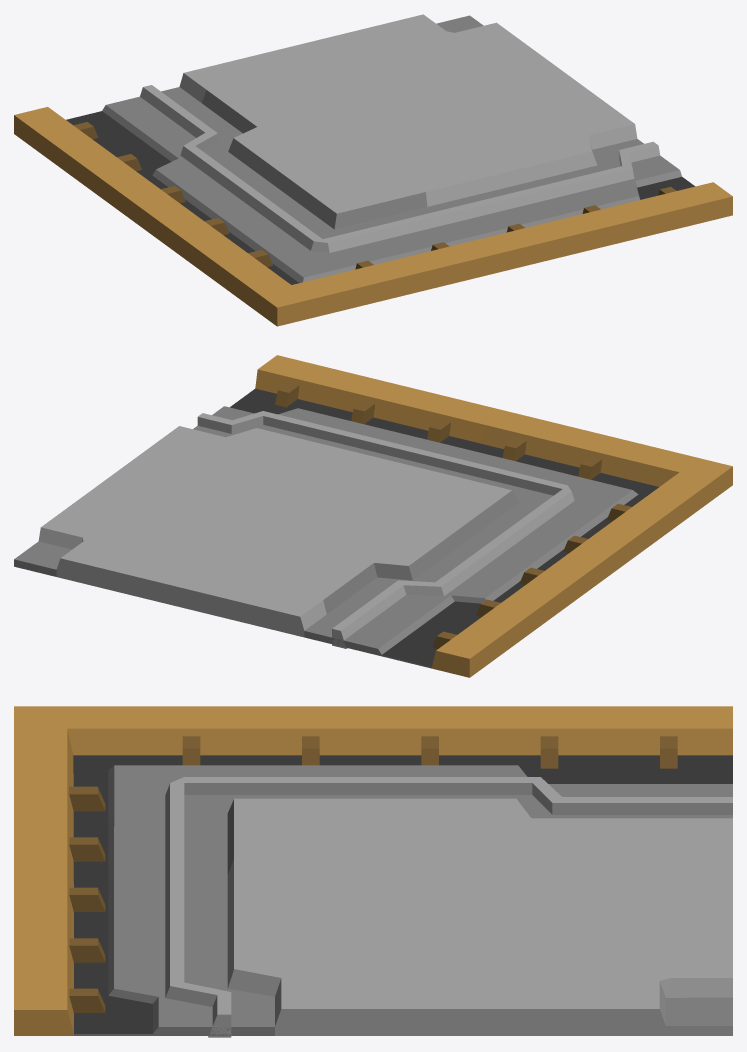
File: floortile_corner.016_lev3.glb
The picture shows the model from 3 angles, top to bottom: view 1: azimuth 30°, elevation 25°; view 2: azimuth 150°, elevation 25°; view 3: azimuth 270°, elevation 25°; orthographic projection. The views are drawn at different scales.
Parts seen in each view (by area): view 1: floortile_corner.016_lev3; view 2: floortile_corner.016_lev3; view 3: floortile_corner.016_lev3.
Boxes of the visible parts, bbox=[...] form: floortile_corner.016_lev3: bbox=[14, 14, 732, 326]; floortile_corner.016_lev3: bbox=[14, 355, 732, 677]; floortile_corner.016_lev3: bbox=[14, 706, 732, 1037].
Size of the model in its own units: 2 by 0.123 by 2.
